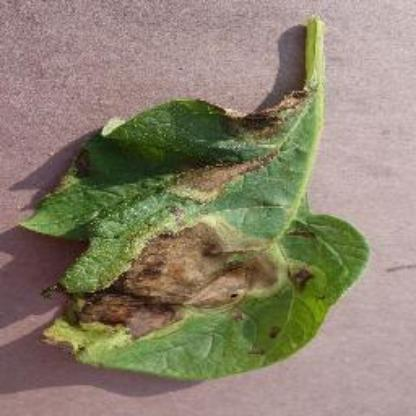Late-Blight: (15, 15, 379, 385)
